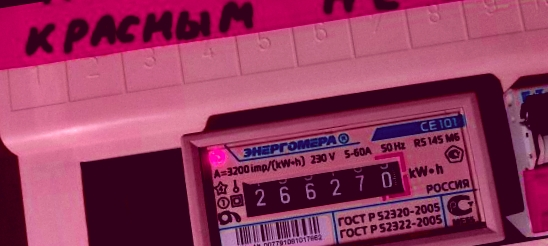0: (377, 168, 394, 190)
2: (251, 185, 267, 208), (327, 175, 343, 197)
6: (276, 183, 291, 205), (302, 180, 317, 200)
7: (353, 172, 366, 192)
screen: (228, 146, 417, 228)
